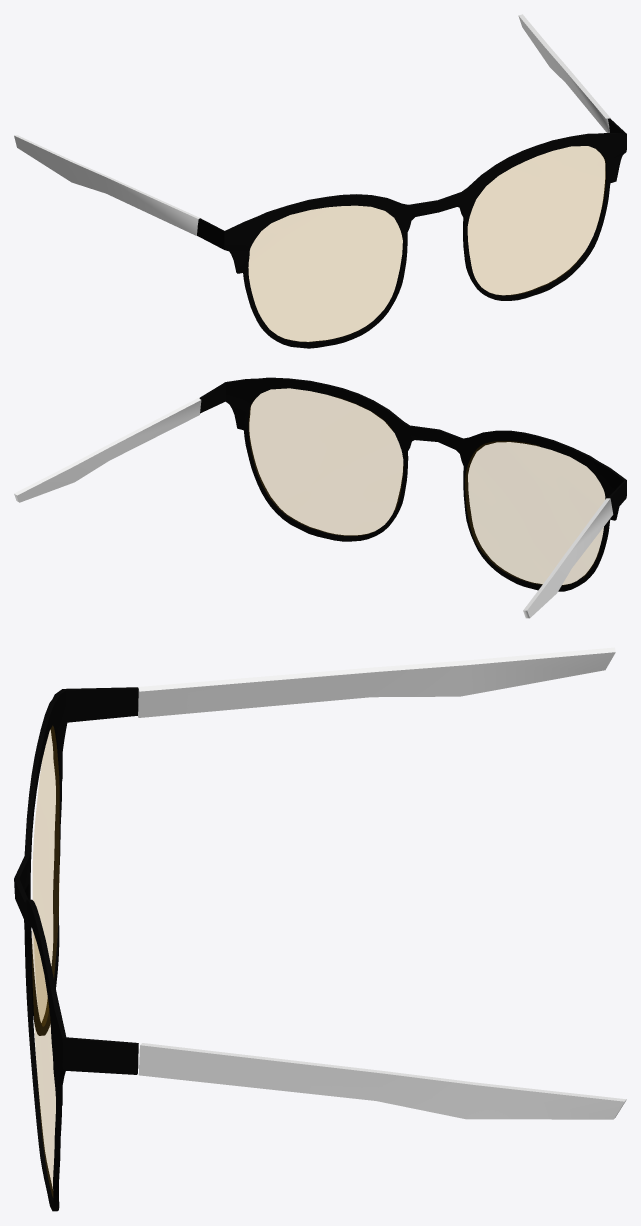
File: Rayban - RB 8392.glb
The picture shows the model from 3 angles, top to bottom: view 1: azimuth 30°, elevation 25°; view 2: azimuth 150°, elevation 25°; view 3: azimuth 270°, elevation 25°; orthographic projection. The views are drawn at different scales.
Parts seen in each view (by area): view 1: Circle.002, Circle.001, Circle, Temple_R_End, Temple_L_End; view 2: Circle.001, Circle.002, Circle, Temple_L_End, Temple_R_End; view 3: Temple_L_End, Temple_R_End, Circle, Circle.002, Circle.001.
Part boxes in pixels (bbox=[...]): Circle.002: bbox=[248, 206, 402, 341]; Circle.001: bbox=[468, 146, 605, 294]; Circle: bbox=[197, 118, 626, 348]; Temple_R_End: bbox=[14, 135, 200, 235]; Temple_L_End: bbox=[518, 14, 610, 132]; Circle.001: bbox=[249, 388, 403, 535]; Circle.002: bbox=[465, 441, 604, 585]; Circle: bbox=[199, 377, 626, 591]; Temple_L_End: bbox=[14, 398, 201, 502]; Temple_R_End: bbox=[523, 498, 613, 618]; Temple_L_End: bbox=[138, 1043, 626, 1119]; Temple_R_End: bbox=[138, 647, 615, 717]; Circle: bbox=[14, 687, 138, 1211]; Circle.002: bbox=[33, 726, 59, 1025]; Circle.001: bbox=[32, 930, 55, 1195].
Size of the model in its own units: 2 by 0.5654 by 1.16.
Materials: 4 (1 with a texture image).
